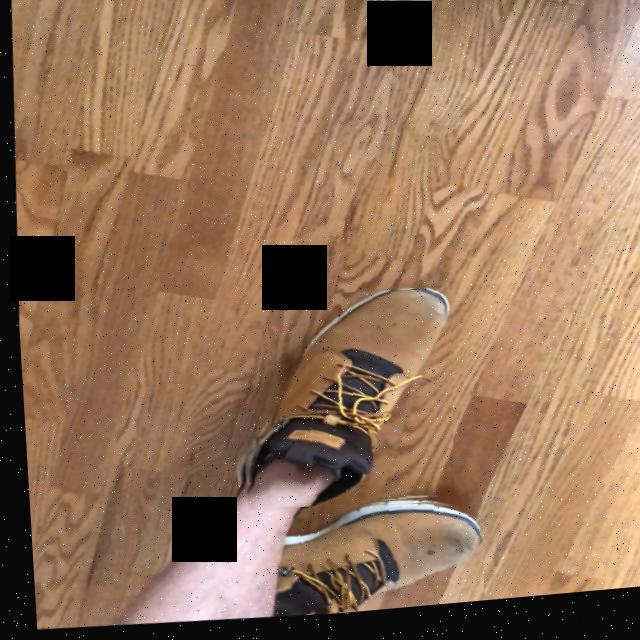shoe: (238, 296, 445, 511), (272, 510, 475, 619)
